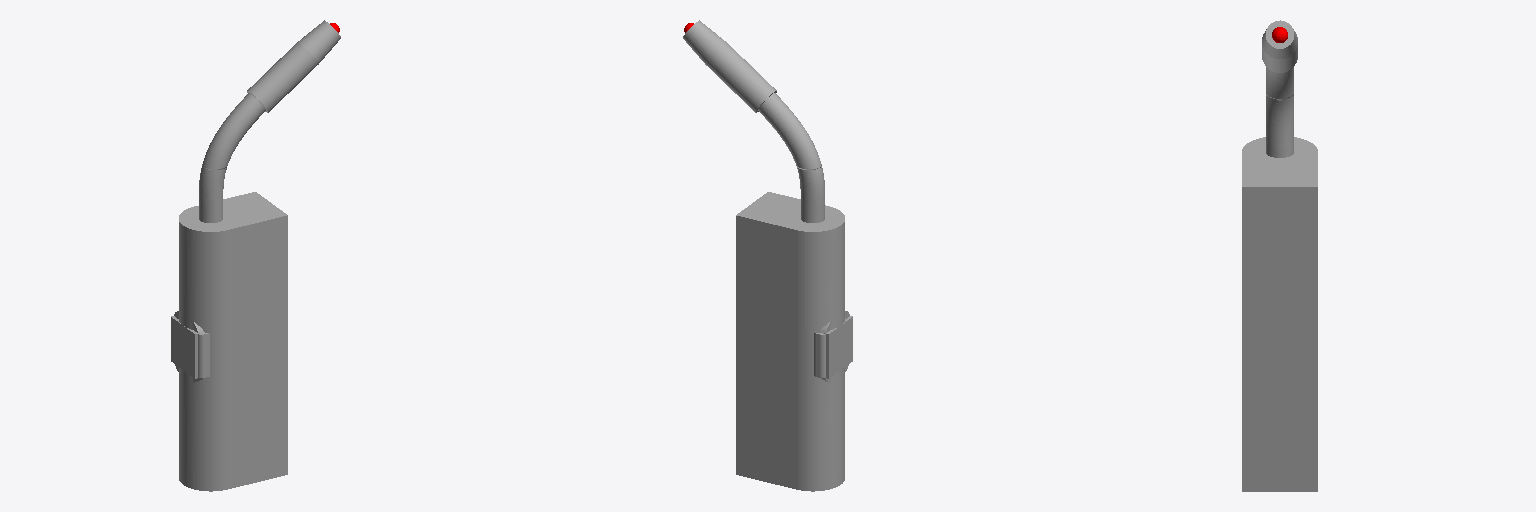
robot.urdf — g1_29dof_rev_1_0:
<?xml version="1.0" encoding="utf-8"?>
<robot name="g1_29dof_rev_1_0">
  <!-- <mujoco>
    <compiler meshdir="meshes" discardvisual="false"/>
  </mujoco> -->

  <!-- [CAUTION] uncomment when convert to mujoco -->
  <!-- <link name="world"></link>
  <joint name="floating_base_joint" type="floating">
    <parent link="world"/>
    <child link="pelvis"/>
  </joint> -->

  <link name="world"/>
  
  <link name="right_shoulder_pitch_link">
    <inertial>
      <origin xyz="0 -0.035892 -0.011628" rpy="0 0 0"/>
      <mass value="0.718"/>
      <inertia ixx="0.0004291" ixy="9.2E-06" ixz="6.4E-06" iyy="0.000453" iyz="-2.26E-05" izz="0.000423"/>
    </inertial>
    <visual>
      <origin xyz="0 0 0" rpy="0 0 0"/>
      <geometry>
        <mesh filename="meshes/right_shoulder_pitch_link.STL"/>
      </geometry>
      <material name="white">
        <color rgba="0.7 0.7 0.7 1"/>
      </material>
    </visual>
    <collision>
      <origin xyz="0 -0.04 -0.01" rpy="0 1.5707963267948966 0"/>
      <geometry>
        <cylinder radius="0.03" length="0.05"/>
      </geometry>
    </collision>
  </link>
  <joint name="right_shoulder_pitch_joint" type="revolute">
    <origin xyz="0 0 0" rpy="-0.27931 5.4949E-05 0.00019159"/>
    <parent link="world"/>
    <child link="right_shoulder_pitch_link"/>
    <axis xyz="0 1 0"/>
    <limit lower="-3.0892" upper="2.6704" effort="25" velocity="37"/>
  </joint>
  <link name="right_shoulder_roll_link">
    <inertial>
      <origin xyz="-0.000227 -0.00727 -0.063243" rpy="0 0 0"/>
      <mass value="0.643"/>
      <inertia ixx="0.0006177" ixy="1E-06" ixz="8.7E-06" iyy="0.0006912" iyz="5.3E-06" izz="0.0003894"/>
    </inertial>
    <visual>
      <origin xyz="0 0 0" rpy="0 0 0"/>
      <geometry>
        <mesh filename="meshes/right_shoulder_roll_link.STL"/>
      </geometry>
      <material name="white">
        <color rgba="0.7 0.7 0.7 1"/>
      </material>
    </visual>
    <collision>
      <origin xyz="-0.004 -0.006 -0.053" rpy="0 0 0"/>
      <geometry>
        <cylinder radius="0.03" length="0.03"/>
      </geometry>
    </collision>
  </link>
  <joint name="right_shoulder_roll_joint" type="revolute">
    <origin xyz="0 -0.038 -0.013831" rpy="0.27925 0 0"/>
    <parent link="right_shoulder_pitch_link"/>
    <child link="right_shoulder_roll_link"/>
    <axis xyz="1 0 0"/>
    <limit lower="-2.2515" upper="1.5882" effort="25" velocity="37"/>
  </joint>
  <link name="right_shoulder_yaw_link">
    <inertial>
      <origin xyz="0.010773 0.002949 -0.072009" rpy="0 0 0"/>
      <mass value="0.734"/>
      <inertia ixx="0.0009988" ixy="-7.9E-06" ixz="0.0001412" iyy="0.0010605" iyz="2.86E-05" izz="0.0004354"/>
    </inertial>
    <visual>
      <origin xyz="0 0 0" rpy="0 0 0"/>
      <geometry>
        <mesh filename="meshes/right_shoulder_yaw_link.STL"/>
      </geometry>
      <material name="white">
        <color rgba="0.7 0.7 0.7 1"/>
      </material>
    </visual>
    <collision>
      <origin xyz="0 0 0" rpy="0 0 0"/>
      <geometry>
        <mesh filename="meshes/right_shoulder_yaw_link.STL"/>
      </geometry>
    </collision>
  </link>
  <joint name="right_shoulder_yaw_joint" type="revolute">
    <origin xyz="0 -0.00624 -0.1032" rpy="0 0 0"/>
    <parent link="right_shoulder_roll_link"/>
    <child link="right_shoulder_yaw_link"/>
    <axis xyz="0 0 1"/>
    <limit lower="-2.618" upper="2.618" effort="25" velocity="37"/>
  </joint>
  <link name="right_elbow_link">
    <inertial>
      <origin xyz="0.064956 -0.004454 -0.010062" rpy="0 0 0"/>
      <mass value="0.6"/>
      <inertia ixx="0.0002891" ixy="-6.53E-05" ixz="1.72E-05" iyy="0.0004152" iyz="5.6E-06" izz="0.0004197"/>
    </inertial>
    <visual>
      <origin xyz="0 0 0" rpy="0 0 0"/>
      <geometry>
        <mesh filename="meshes/right_elbow_link.STL"/>
      </geometry>
      <material name="white">
        <color rgba="0.7 0.7 0.7 1"/>
      </material>
    </visual>
    <collision>
      <origin xyz="0 0 0" rpy="0 0 0"/>
      <geometry>
        <mesh filename="meshes/right_elbow_link.STL"/>
      </geometry>
    </collision>
  </link>
  <joint name="right_elbow_joint" type="revolute">
    <origin xyz="0.015783 0 -0.080518" rpy="0 0 0"/>
    <parent link="right_shoulder_yaw_link"/>
    <child link="right_elbow_link"/>
    <axis xyz="0 1 0"/>
    <limit lower="-1.0472" upper="2.0944" effort="25" velocity="37"/>
  </joint>
  <joint name="right_wrist_roll_joint" type="revolute">
    <origin xyz="0.100 -0.00188791 -0.010" rpy="0 0 0"/>
    <axis xyz="1 0 0"/>
    <parent link="right_elbow_link"/>
    <child link="right_wrist_roll_link"/>
    <limit effort="25" velocity="37" lower="-1.972222054" upper="1.972222054"/>
  </joint>
  <link name="right_wrist_roll_link">
    <inertial>
      <origin xyz="0.01713944778 -0.00053759094 0.00000048864" rpy="0 0 0"/>
      <mass value="0.08544498"/>
      <inertia ixx="0.00004821544023" ixy="0.00000424511021" ixz="0.00000000510599" iyy="0.00003722899093" iyz="0.00000000123525" izz="0.00005482106541"/>
    </inertial>
    <visual>
      <origin xyz="0 0 0" rpy="0 0 0"/>
      <geometry>
        <mesh filename="meshes/right_wrist_roll_link.STL"/>
      </geometry>
      <material name="white">
        <color rgba="0.7 0.7 0.7 1"/>
      </material>
    </visual>
    <collision>
      <origin xyz="0 0 0" rpy="0 0 0"/>
      <geometry>
        <mesh filename="meshes/right_wrist_roll_link.STL"/>
      </geometry>
    </collision>
  </link>
  <joint name="right_wrist_pitch_joint" type="revolute">
    <origin xyz="0.038 0 0" rpy="0 0 0"/>
    <axis xyz="0 1 0"/>
    <parent link="right_wrist_roll_link"/>
    <child link="right_wrist_pitch_link"/>
    <limit effort="5" velocity="22" lower="-1.614429558" upper="1.614429558"/>
  </joint>
  <link name="right_wrist_pitch_link">
    <inertial>
      <origin xyz="0.02299989837 0.00111685314 -0.00111658096" rpy="0 0 0"/>
      <mass value="0.48404956"/>
      <inertia ixx="0.00016579646273" ixy="0.00001231206746" ixz="0.00001231699194" iyy="0.00042954057410" iyz="-0.00000081417712" izz="0.00042953697654"/>
    </inertial>
    <visual>
      <origin xyz="0 0 0" rpy="0 0 0"/>
      <geometry>
        <mesh filename="meshes/right_wrist_pitch_link.STL"/>
      </geometry>
      <material name="white">
        <color rgba="0.7 0.7 0.7 1"/>
      </material>
    </visual>
    <collision>
      <origin xyz="0 0 0" rpy="0 0 0"/>
      <geometry>
        <mesh filename="meshes/right_wrist_pitch_link.STL"/>
      </geometry>
    </collision>
  </link>
  <joint name="right_wrist_yaw_joint" type="revolute">
    <origin xyz="0.046 0 0" rpy="0 0 0"/>
    <axis xyz="0 0 1"/>
    <parent link="right_wrist_pitch_link"/>
    <child link="right_wrist_yaw_link"/>
    <limit effort="5" velocity="22" lower="-1.614429558" upper="1.614429558"/>
  </joint>
  <link name="right_wrist_yaw_link">
    <inertial>
      <origin xyz="0.02200381568 -0.00049485096 0.00053861123" rpy="0 0 0"/>
      <mass value="0.08457647"/>
      <inertia ixx="0.00004929128828" ixy="0.00000045735494" ixz="0.00000445867591" iyy="0.00005973338134" iyz="-0.00000043217198" izz="0.00003928083826"/>
    </inertial>
    <visual>
      <origin xyz="0 0 0" rpy="0 0 0"/>
      <geometry>
        <mesh filename="meshes/right_wrist_yaw_link.STL"/>
      </geometry>
      <material name="white">
        <color rgba="0.7 0.7 0.7 1"/>
      </material>
    </visual>
    <collision>
      <origin xyz="0 0 0" rpy="0 0 0"/>
      <geometry>
        <mesh filename="meshes/right_wrist_yaw_link.STL"/>
      </geometry>
    </collision>
  </link>
  <joint name="right_hand_palm_joint" type="fixed">
    <origin xyz="0.0415 -0.003 0" rpy="0 0 0"/>
    <parent link="right_wrist_yaw_link"/>
    <child link="welder"/>
  </joint>
  <link name="welder">
    <inertial>
      <origin xyz="0.05361310808 -0.00295905240 0.00215413091" rpy="0 0 0"/>
      <mass value="0.68"/>
      <inertia ixx="0.00010099485234748" ixy="-0.00003618590790516" ixz="-0.00000074301518642" iyy="0.00028135871571621" iyz="-0.00000330189743286" izz="0.00021894770413514"/>
    </inertial>
    <visual>
      <origin xyz="0 0 0" rpy="0 0 0"/>
      <geometry>
        <mesh filename="meshes/welder_HG200_submesh1.STL"/>
      </geometry>
      <material name="white">
        <color rgba="0.7 0.7 0.7 1"/>
      </material>
    </visual>
    <collision>
      <origin xyz="0 0 0" rpy="0 0 0"/>
      <geometry>
        <mesh filename="meshes/welder_HG200_submesh1.STL"/>
      </geometry>
    </collision>
  </link>
  <link name="welder2">
    <visual>
      <origin xyz="0 0 0" rpy="0 0 0"/>
      <geometry>
        <mesh filename="meshes/welder_HG200_submesh2.STL"/>
      </geometry>
      <material name="white">
        <color rgba="0.7 0.7 0.7 1"/>
      </material>
    </visual>
    <collision>
      <origin xyz="0 0 0" rpy="0 0 0"/>
      <geometry>
        <mesh filename="meshes/welder_HG200_submesh2.STL"/>
      </geometry>
    </collision>
  </link>
  <joint name="welder2_joint" type="fixed">
    <origin xyz="0 0 0" rpy="0 0 0"/>
    <parent link="welder"/>
    <child link="welder2"/>
  </joint>
  <joint name="end_effector_joint" type="fixed">
    <origin xyz="0.0985 0 0.176675" rpy="0 -0.603712724 0"/>
    <parent link="welder"/>
    <child link="end_effector"/>
  </joint>
  <link name="end_effector">
    <visual>
      <origin xyz="0 0 0" rpy="0 0 0"/>
      <geometry>
        <sphere radius= "0.004"/>
      </geometry>
      <material name="red">
        <color rgba="1 0 0 1"/>
      </material>
    </visual>
  </link>
</robot>

--- Facts derived from the render (not from the file) ---
Views: 3 orthographic renders of the robot side by side, from view 1: azimuth 30°, elevation 25°; view 2: azimuth 150°, elevation 25°; view 3: azimuth 270°, elevation 25°.
Robot: g1_29dof_rev_1_0 — 11 links, 10 joints (7 revolute, 3 fixed); root link world; default pose: every joint at zero.
Visible links, largest first — view 1: welder, welder2; view 2: welder, welder2; view 3: welder, welder2.
Boxes of the visible links, bbox=[...] form: welder: bbox=[171, 165, 287, 491]; welder2: bbox=[202, 20, 340, 169]; welder: bbox=[736, 165, 852, 491]; welder2: bbox=[683, 20, 821, 169]; welder: bbox=[1242, 94, 1317, 491]; welder2: bbox=[1262, 20, 1297, 98].
Size in the robot's own frame: 0.1025 by 0.037 by 0.2688 metres.
2 mesh visuals loaded from 9 distinct referenced files (2 binary STL); not drawn: 7 (reference not matched to a file when rendering).